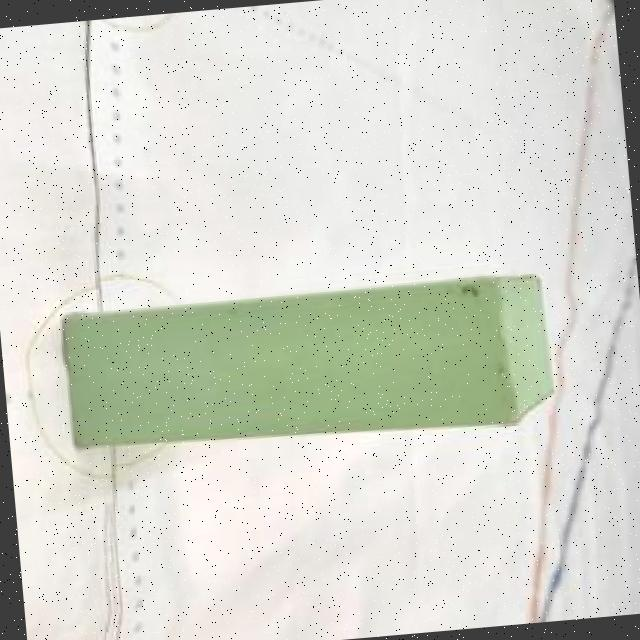greenbox: (58, 270, 554, 460)
